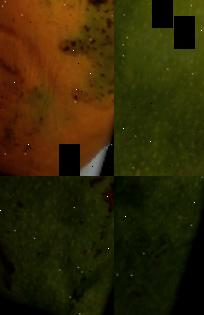Ripe: (0, 0, 114, 176)
Unripe: (0, 176, 114, 315), (114, 0, 204, 176), (114, 176, 204, 315)
